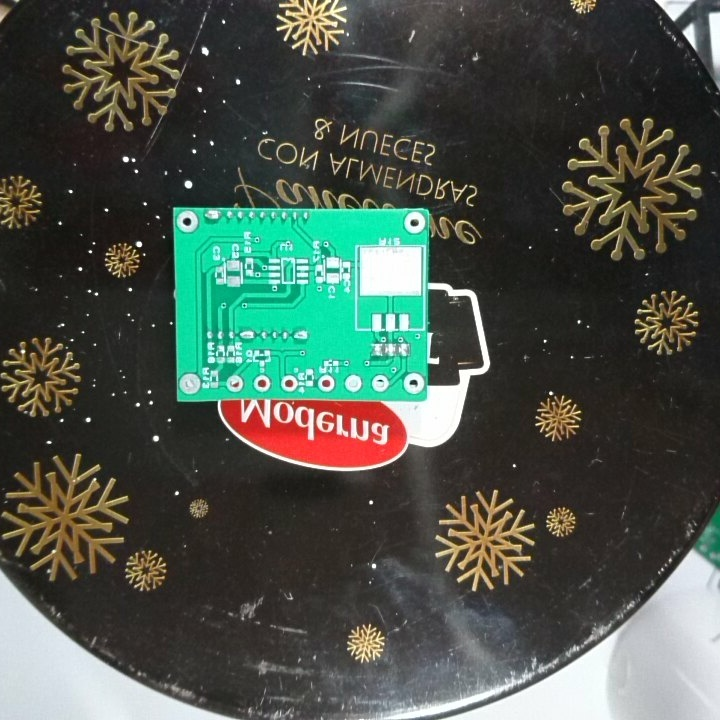F: (401, 208, 426, 234), (178, 369, 202, 396), (176, 209, 199, 236), (401, 371, 425, 396), (251, 372, 273, 395), (342, 372, 364, 395), (369, 373, 391, 395), (225, 372, 245, 395), (317, 373, 337, 395), (279, 372, 298, 393)
P: (291, 326, 313, 345), (201, 206, 223, 224), (237, 326, 257, 343)
